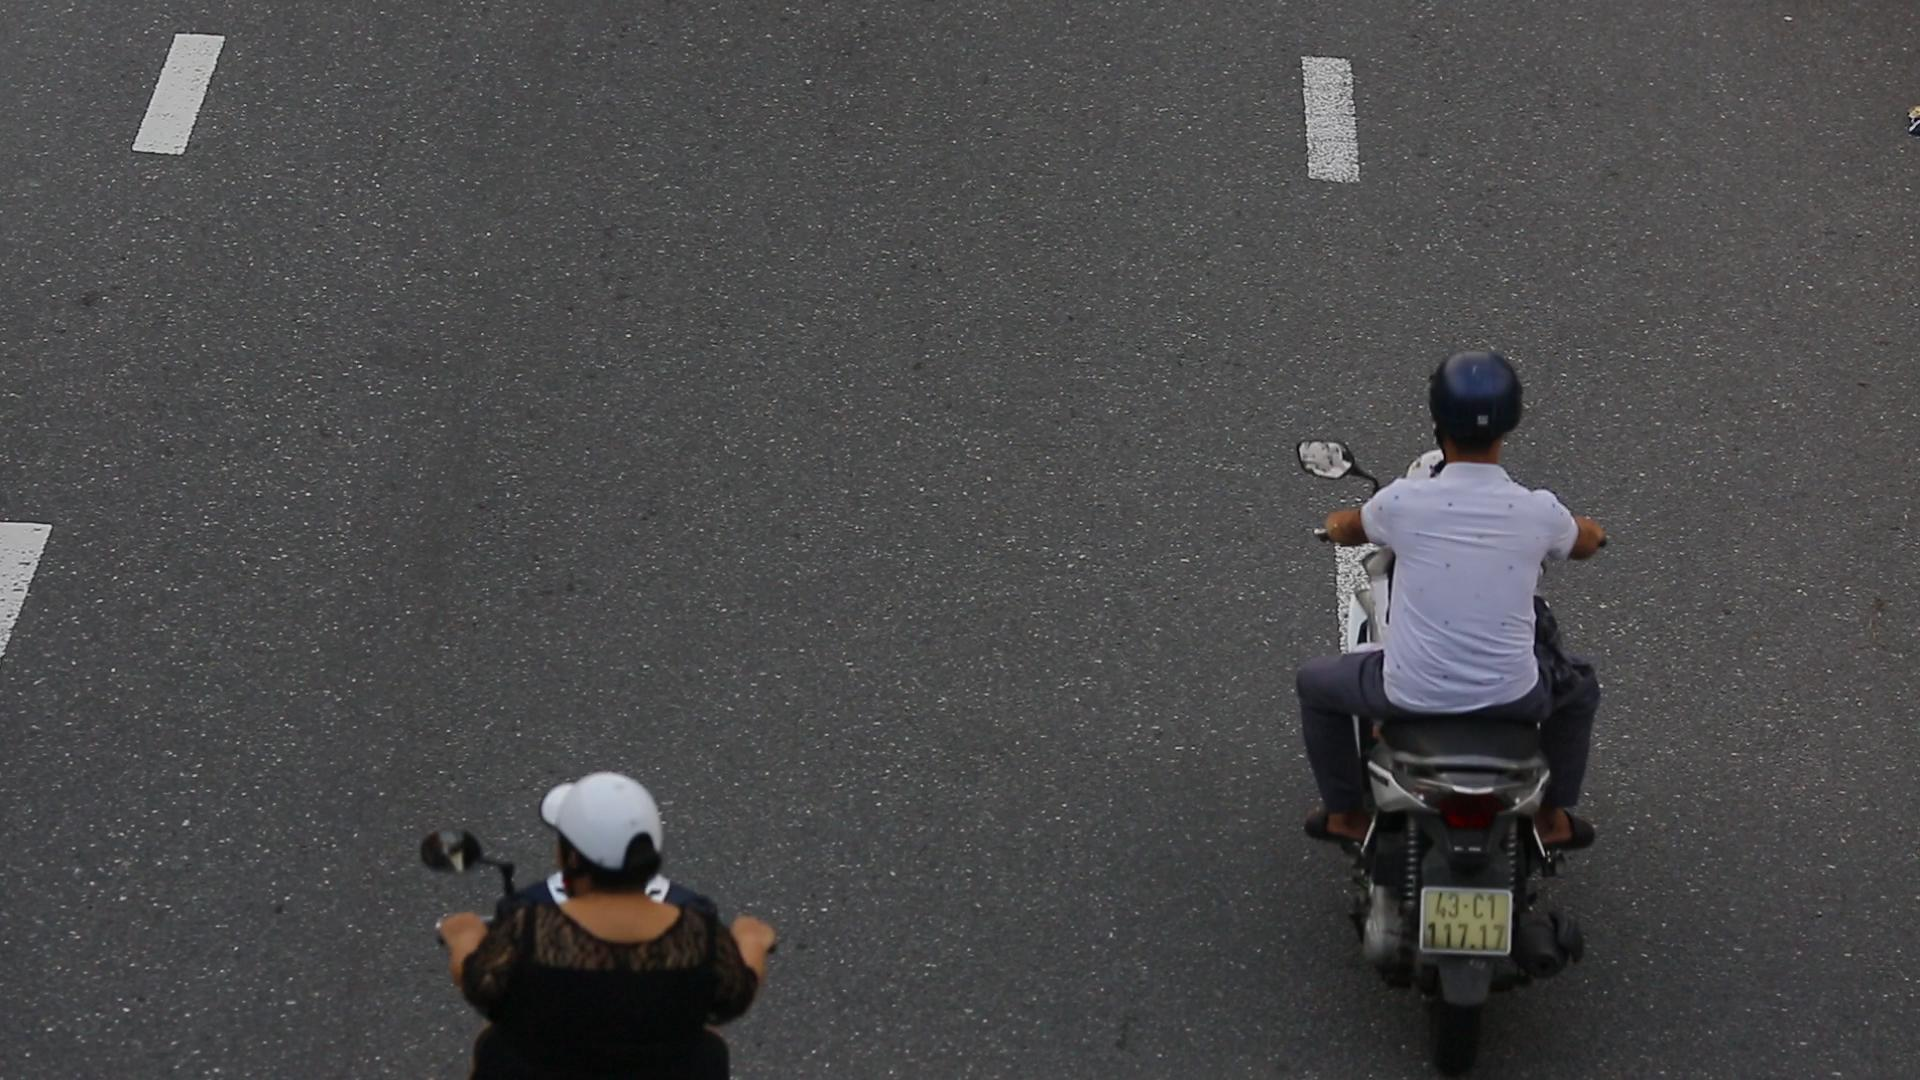motobike: (1290, 327, 1656, 1080)
